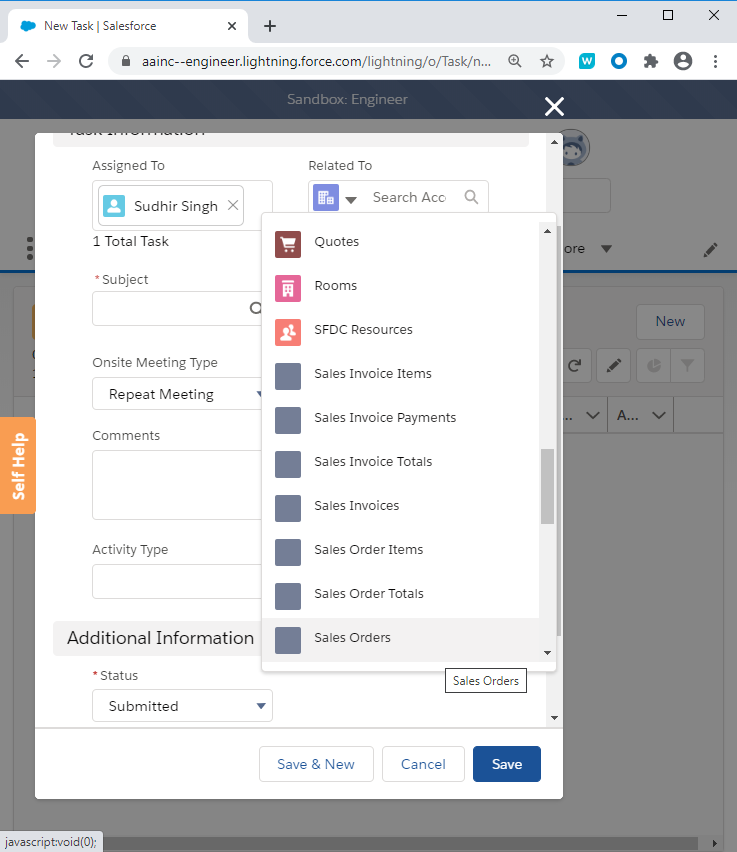ACTIVE_WINDOW: (36, 132, 563, 800)
BUTTON: (259, 745, 373, 780), (382, 745, 464, 780), (472, 745, 540, 781), (636, 304, 704, 339), (444, 667, 526, 692)
COMBOBOX: (91, 688, 272, 721)
DROPDOWN_HANDLE: (639, 396, 672, 431), (575, 395, 605, 433), (239, 687, 272, 721), (592, 234, 619, 261)
IMAGEBUTTON: (596, 348, 630, 382), (636, 348, 669, 382), (670, 348, 704, 381), (562, 348, 591, 382), (217, 190, 243, 220), (539, 89, 567, 116), (273, 230, 300, 257), (537, 48, 563, 73), (670, 48, 695, 73), (574, 48, 598, 73), (73, 47, 97, 72), (699, 235, 723, 260), (606, 48, 630, 72), (41, 48, 65, 72), (10, 48, 34, 72), (638, 49, 662, 72), (705, 48, 728, 72), (503, 49, 525, 70), (660, 7, 675, 22), (614, 8, 629, 22)
NON_SEARCH_ICON_LEFT: (312, 181, 342, 212)
SCROLLBAR_HORIZONTAL_HANDLE: (700, 835, 722, 849)
SCROLLBAR_VERTICAL: (546, 132, 562, 726), (538, 222, 555, 659)
SCROLLBAR_VERTICAL_BAR: (540, 448, 553, 523)
SCROLLBAR_VERTICAL_HANDLE: (538, 222, 555, 240), (545, 708, 562, 726), (546, 132, 562, 149), (539, 643, 555, 659)
SEARCHBOX_COMBO: (308, 179, 488, 212)
SEARCH_ICON: (458, 184, 484, 210)
